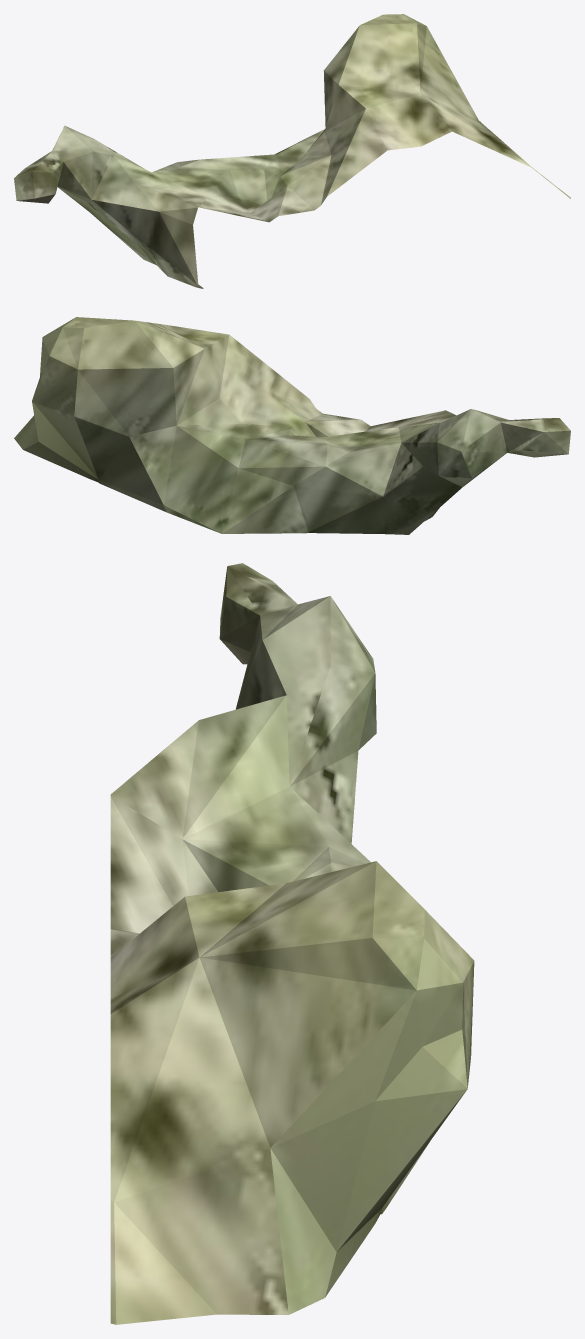
3 views of the same model, one above another, from view 1: azimuth 30°, elevation 25°; view 2: azimuth 150°, elevation 25°; view 3: azimuth 270°, elevation 25° (orthographic). The views are drawn at different scales.
Size of the model in its own units: 2.1 by 0.6128 by 0.6289.
Materials: 1 (1 with a texture image).
